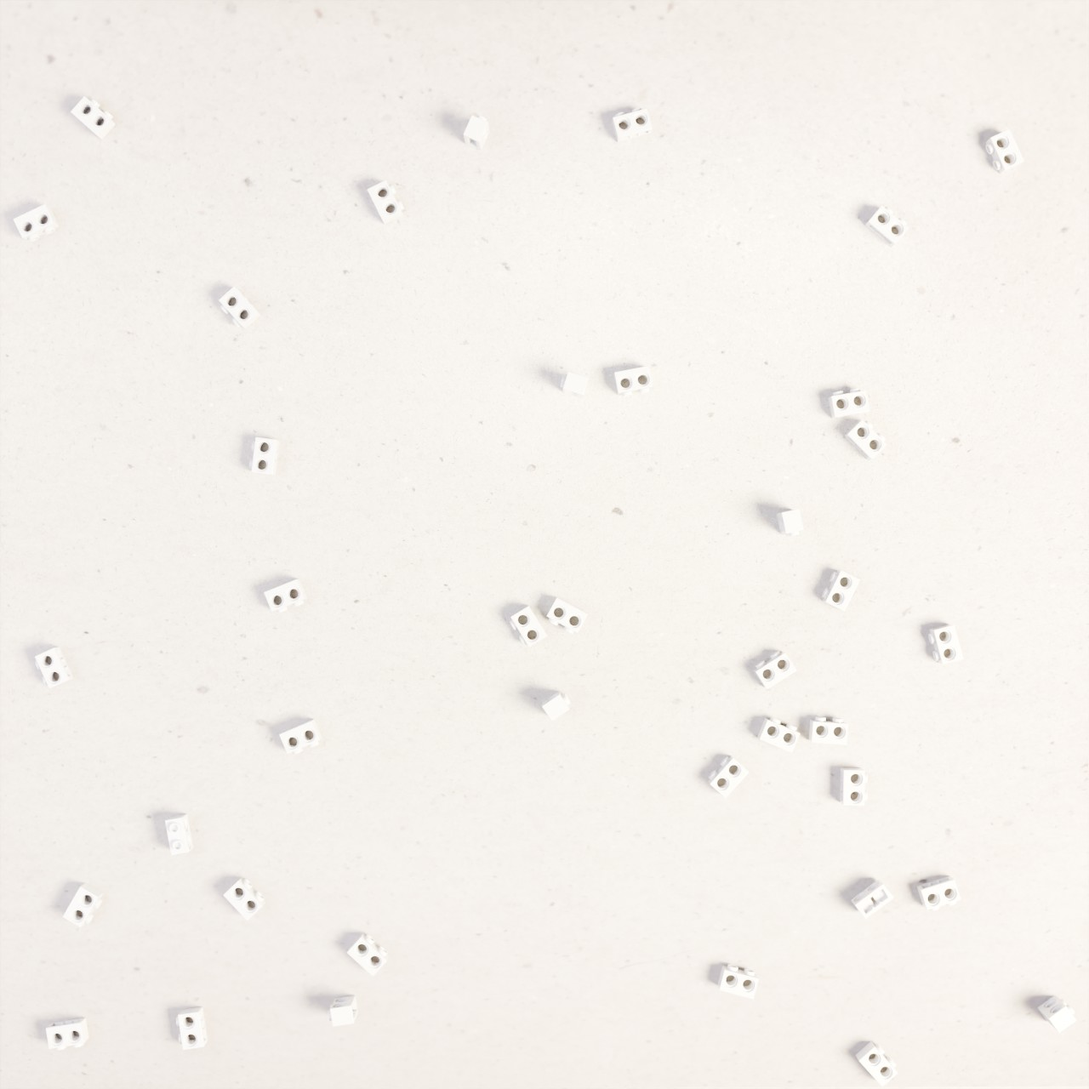lego: (70, 96, 116, 140), (855, 1041, 898, 1087), (223, 877, 266, 921), (865, 205, 909, 248), (347, 933, 389, 977), (62, 883, 103, 928), (219, 286, 261, 329), (13, 204, 60, 242), (708, 755, 749, 798), (985, 129, 1024, 174), (851, 879, 894, 919), (844, 420, 887, 460), (753, 651, 797, 690), (367, 180, 404, 225), (35, 647, 74, 689), (822, 570, 860, 611), (510, 605, 547, 647), (757, 717, 800, 753), (279, 719, 322, 755), (917, 876, 961, 911), (547, 597, 588, 634), (264, 579, 307, 614), (1037, 996, 1077, 1033), (717, 964, 759, 999), (612, 107, 652, 143), (46, 1017, 89, 1050), (928, 624, 963, 664), (176, 1007, 208, 1050), (828, 388, 870, 419), (614, 366, 653, 397), (249, 437, 280, 476), (165, 814, 194, 855), (809, 717, 848, 745), (840, 768, 868, 806), (463, 115, 490, 151), (328, 995, 358, 1027), (542, 691, 571, 721), (776, 509, 804, 537), (560, 372, 589, 398)
